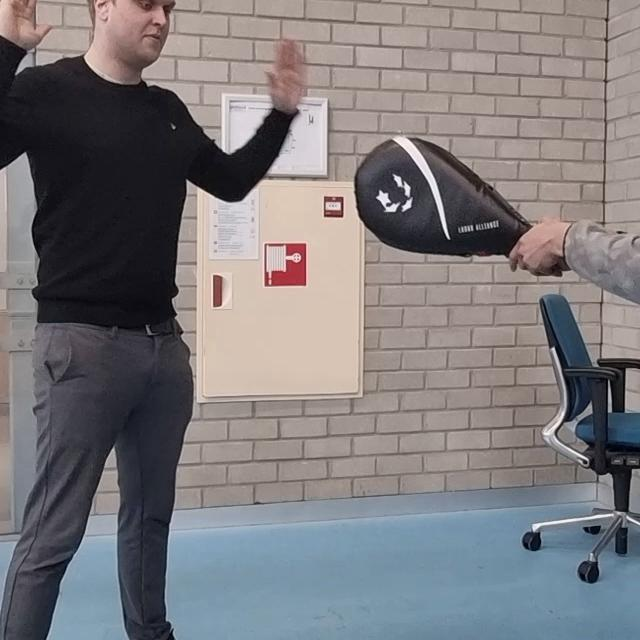paddle: (355, 138, 535, 255)
